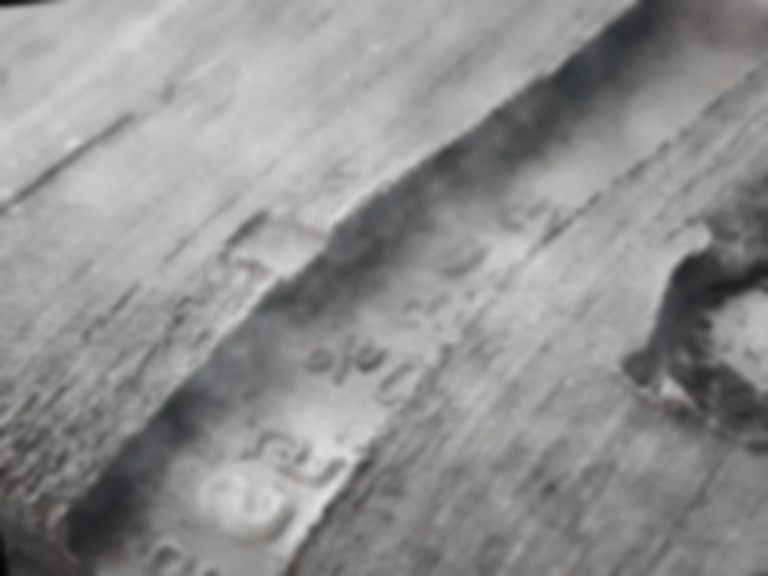temoin:0: (200, 168, 379, 321)
